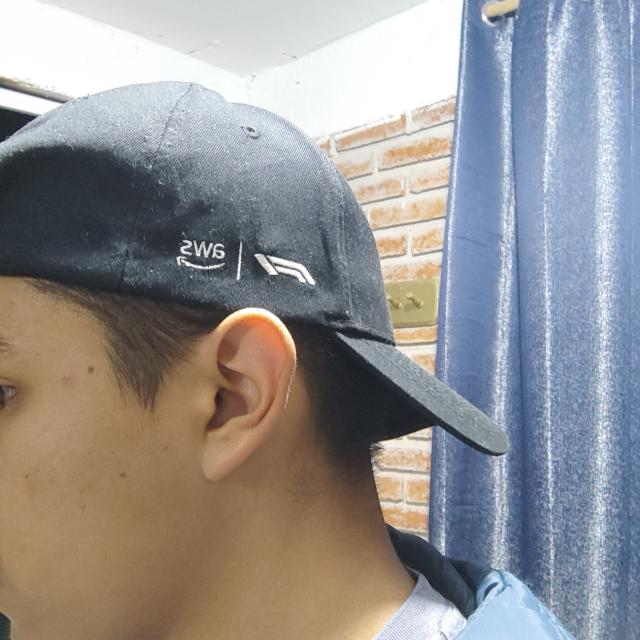ear: (168, 309, 296, 481)
